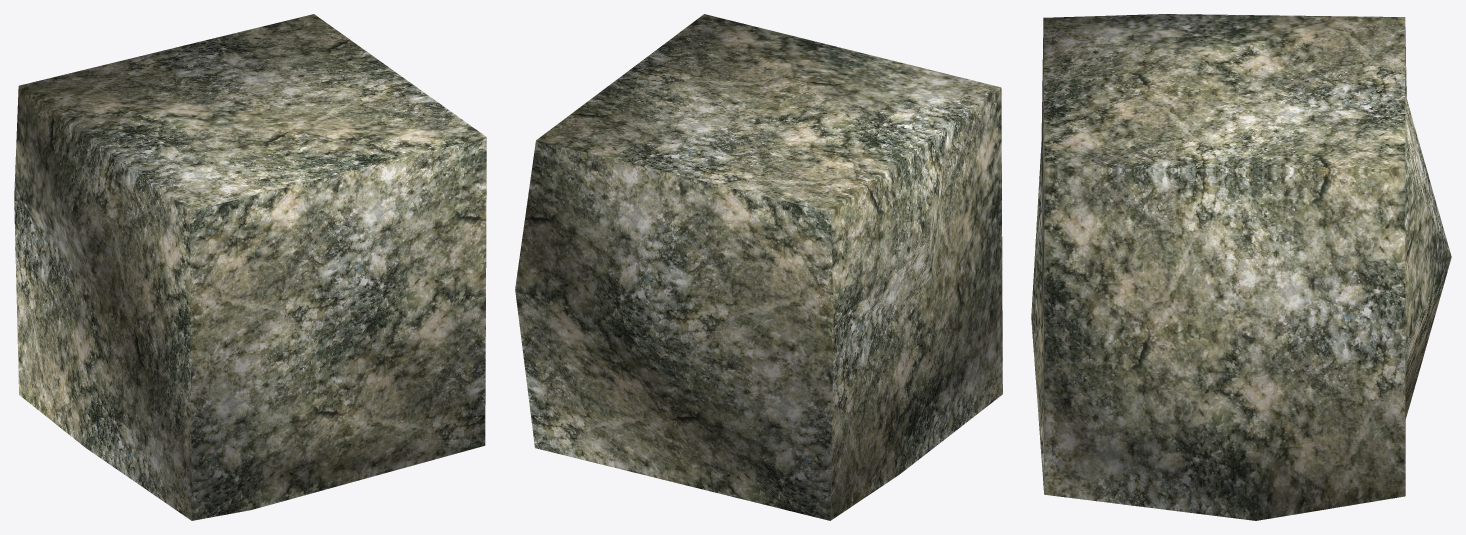
Rendered from ground_under.obj.
3 renders of one model, left to right at view 1: azimuth 30°, elevation 25°; view 2: azimuth 150°, elevation 25°; view 3: azimuth 270°, elevation 25°, orthographic. The views are drawn at different scales.
Parts seen in each view (by area): view 1: Cube; view 2: Cube; view 3: Cube.
Boxes of the visible parts, box(x1,y1,x2,y2) form: Cube: box(14, 14, 486, 520); Cube: box(515, 14, 1002, 520); Cube: box(1031, 14, 1451, 520).
Size of the model in its own units: 2.41 by 2.26 by 2.44.
